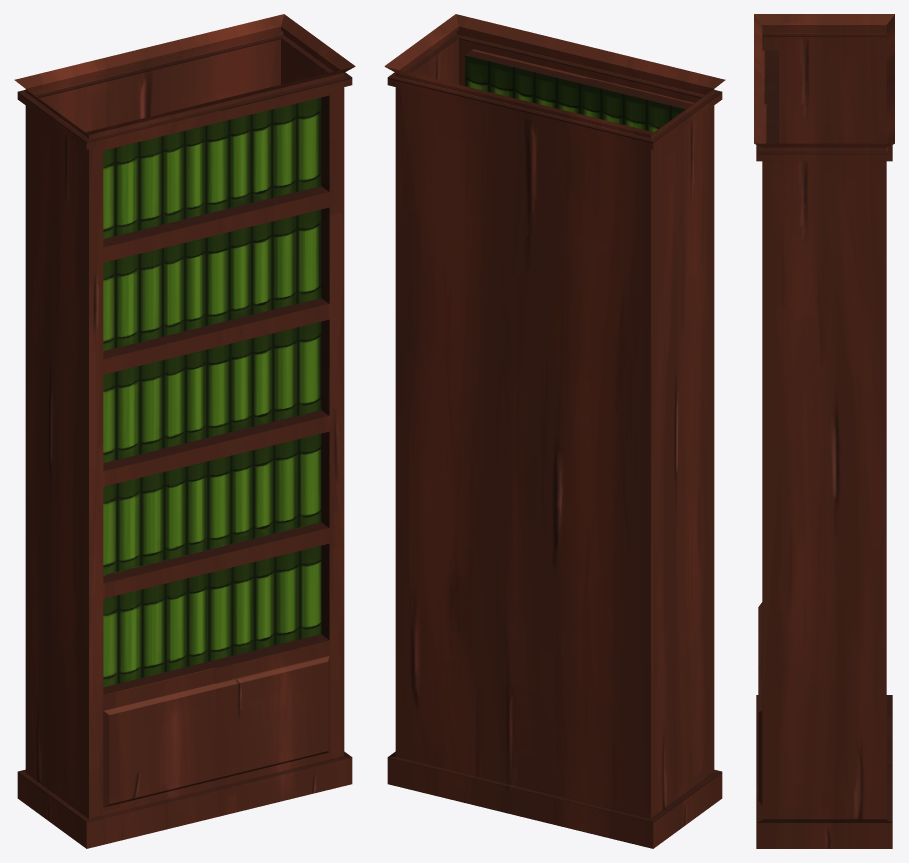
The model's file is Bookshelf.FBX.
3 renders of one model, left to right at view 1: azimuth 30°, elevation 25°; view 2: azimuth 150°, elevation 25°; view 3: azimuth 270°, elevation 25°, orthographic.
Visible parts, largest first — view 1: Bookshelf001; view 2: Bookshelf001; view 3: Bookshelf001.
Boxes of the visible parts, x1,y1,x2,y2 form: Bookshelf001: (14,14,355,848); Bookshelf001: (384,14,725,848); Bookshelf001: (754,14,894,848).
Bounding box in the file's own units: 0.74 × 1.88 × 0.34.
1 material, 1 textured.
